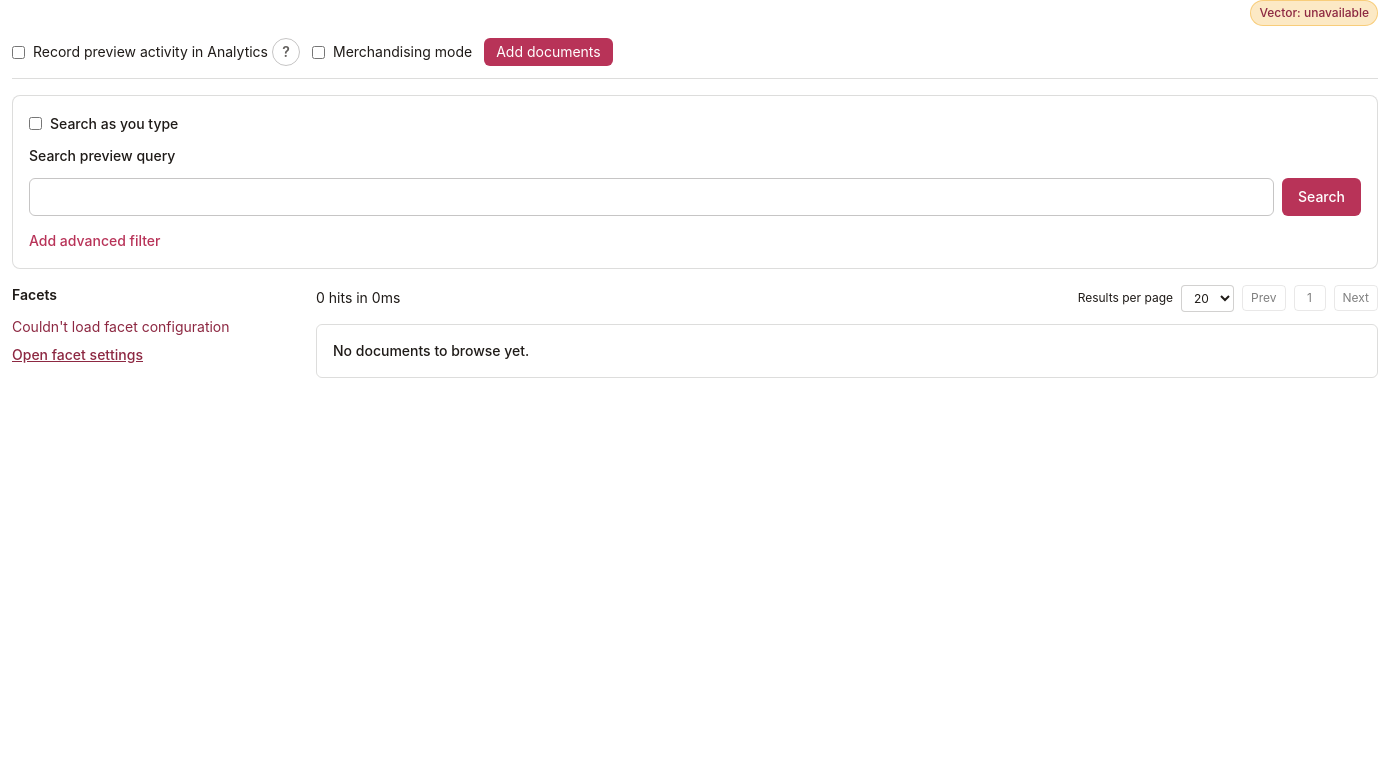
Test: InstantSearch › uses the raw route index through the authenticated search proxy
Type "Blue Ridge" into the search field labelled "Search preview query" at (652, 196), box [29,178,1274,216]
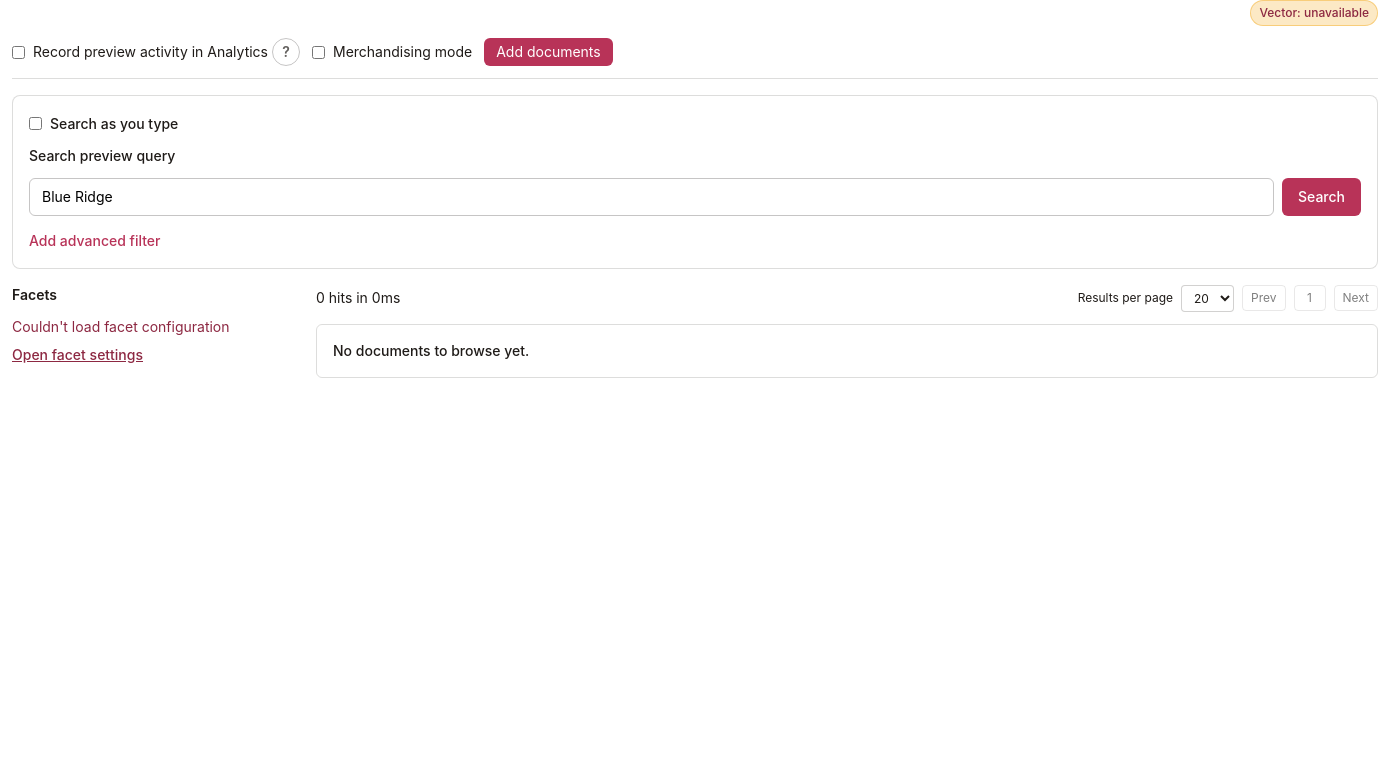
Press Enter in the search field labelled "Search preview query", box [29,178,1274,216]
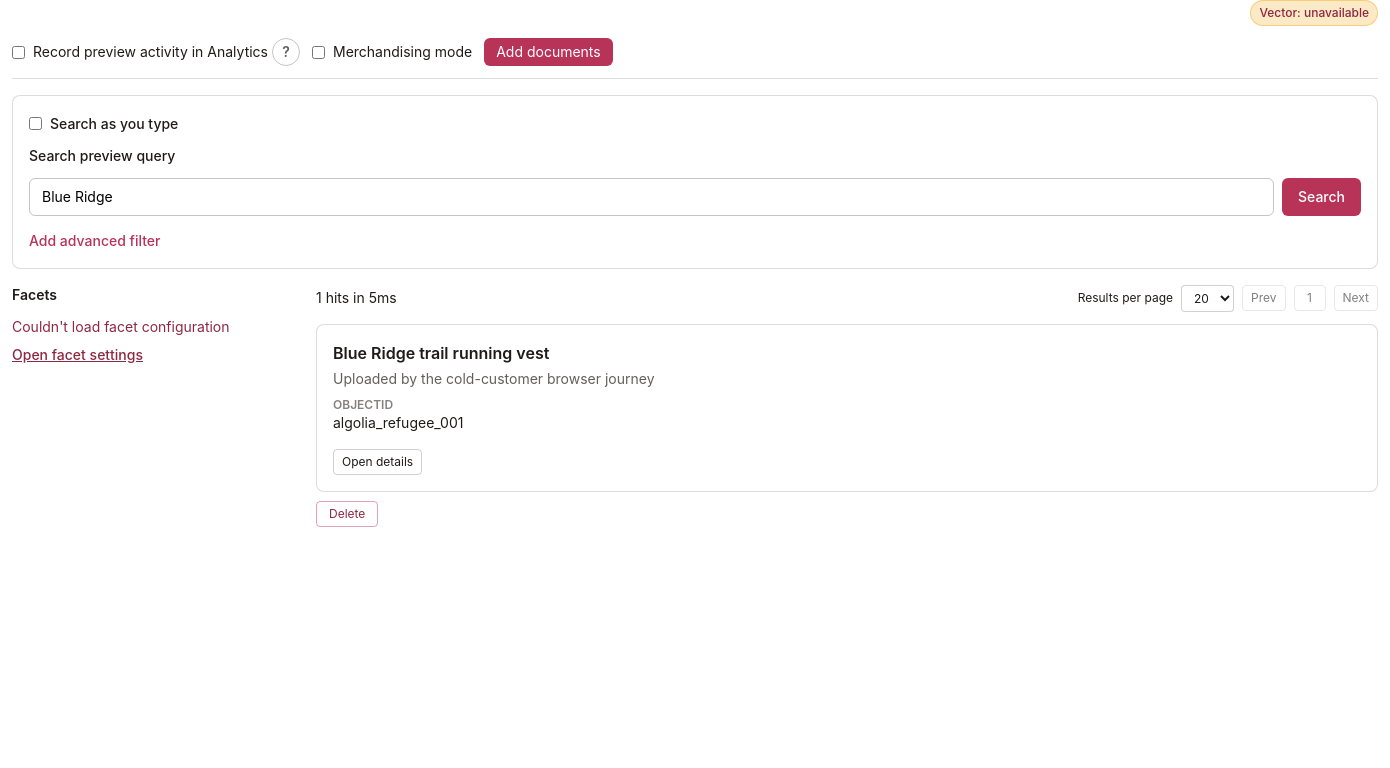
Result: the element with test id "document-card" shows "Blue Ridge trail running vest" at [333,342,549,362]
